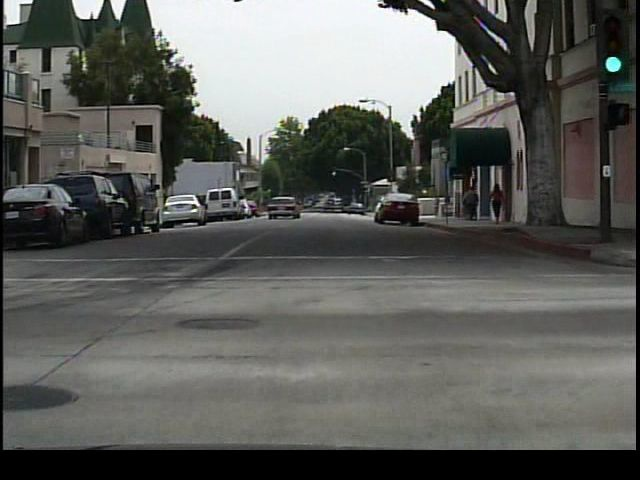person: (489, 177, 508, 225), (459, 184, 481, 225)
